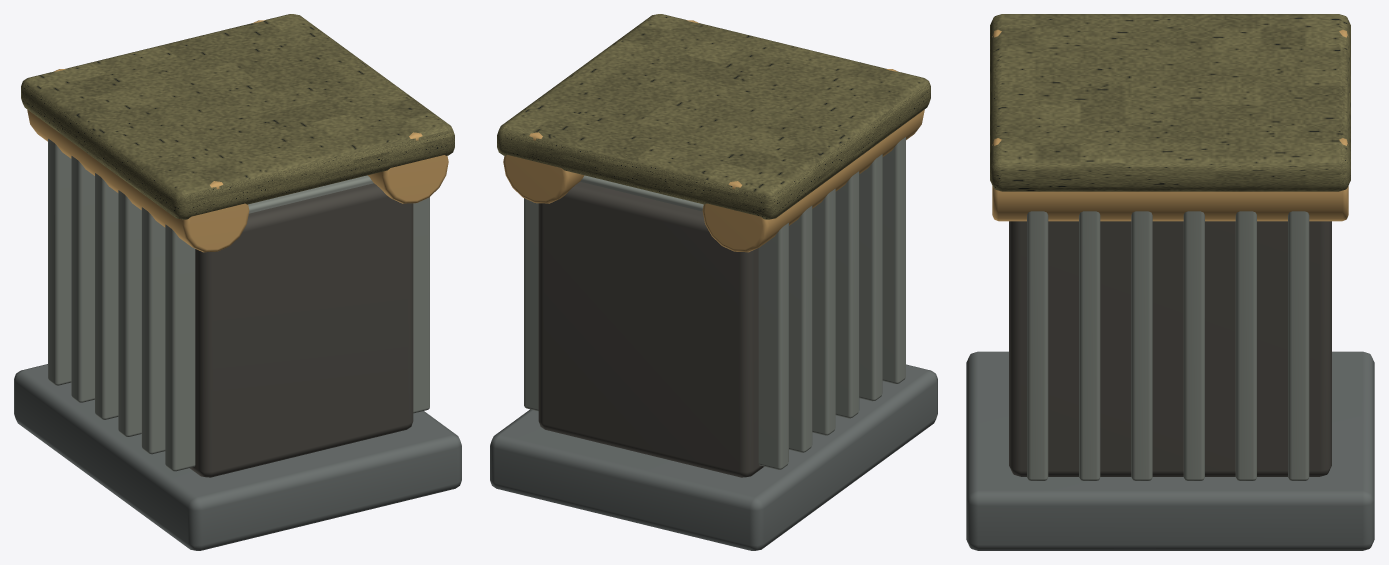
File: STK-M04.fbx
3 renders of one model, left to right at view 1: azimuth 30°, elevation 25°; view 2: azimuth 150°, elevation 25°; view 3: azimuth 270°, elevation 25°, orthographic. The views are drawn at different scales.
Visible parts, largest first — view 1: STK-M04_Soot, STK-M04_Armor, STK-M04_Edge, STK-M04_Steel, STK-M04_Brass; view 2: STK-M04_Soot, STK-M04_Armor, STK-M04_Edge, STK-M04_Steel, STK-M04_Brass; view 3: STK-M04_Armor, STK-M04_Soot, STK-M04_Steel, STK-M04_Edge, STK-M04_Brass.
Part boxes in pixels (left/top/right/bottom): STK-M04_Soot: left=190, top=183, right=413, bottom=477; STK-M04_Armor: left=21, top=14, right=454, bottom=219; STK-M04_Edge: left=48, top=138, right=429, bottom=471; STK-M04_Steel: left=14, top=364, right=461, bottom=550; STK-M04_Brass: left=27, top=20, right=448, bottom=252; STK-M04_Soot: left=538, top=181, right=764, bottom=477; STK-M04_Armor: left=497, top=14, right=930, bottom=219; STK-M04_Edge: left=524, top=137, right=905, bottom=469; STK-M04_Steel: left=490, top=364, right=937, bottom=550; STK-M04_Brass: left=503, top=20, right=924, bottom=252; STK-M04_Armor: left=990, top=14, right=1350, bottom=191; STK-M04_Soot: left=1009, top=221, right=1331, bottom=476; STK-M04_Steel: left=966, top=351, right=1374, bottom=550; STK-M04_Edge: left=1027, top=211, right=1309, bottom=480; STK-M04_Brass: left=992, top=29, right=1348, bottom=221.
Bounding box in the file's own units: 76 × 92 × 86.
